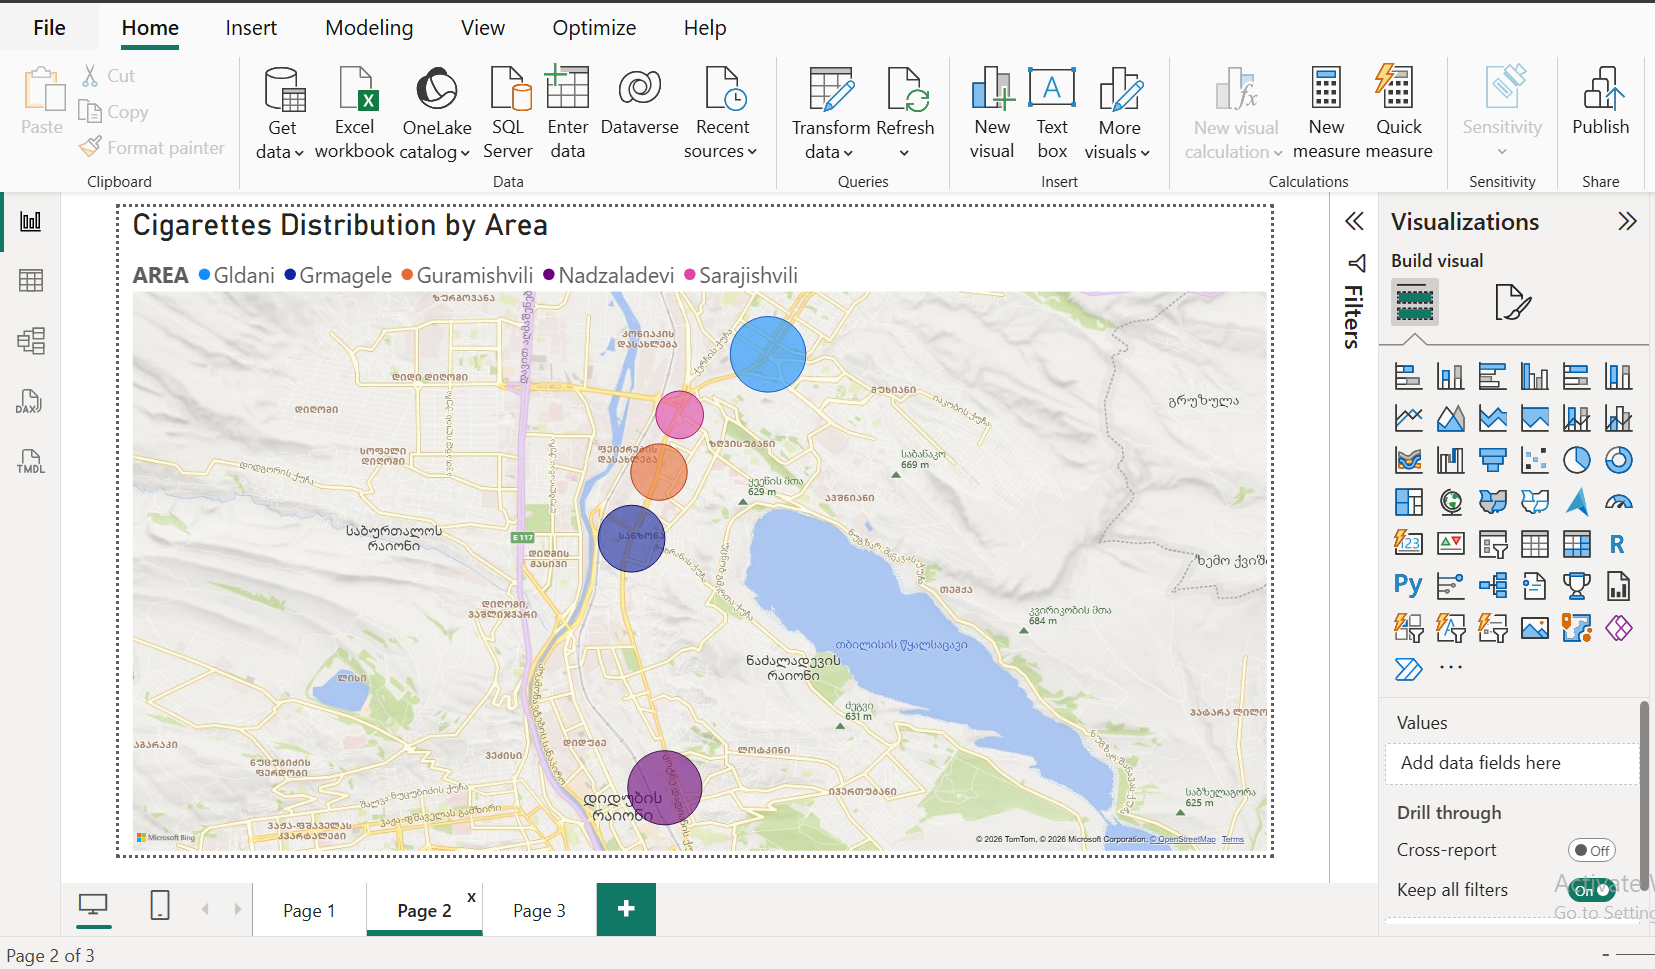

What the dashboard file says about the page in this screenshot:
{"tool":"powerbi","page":{"name":"Page 2","canvas":[1280,720],"ordinal":1},"visuals":[{"type":"map","title":"Cigarettes Distribution by Area","fields":{"Y":["Sheet1.Latitude"],"X":["Sheet1.Longitude"],"Series":["Sheet1.AREA"],"Size":["Sheet1.Total Quantity"]},"box":[10,0,1270,720],"z":0}]}

Visuals, with their boxes on the page's 1280x720 design canvas (x1, y1, x2, y2). These are canvas units, not pixel positions in the 1655x969 screenshot, which may show the page scaled, cropped or inside an application window:
"Cigarettes Distribution by Area" map: (10, 0, 1280, 720)
